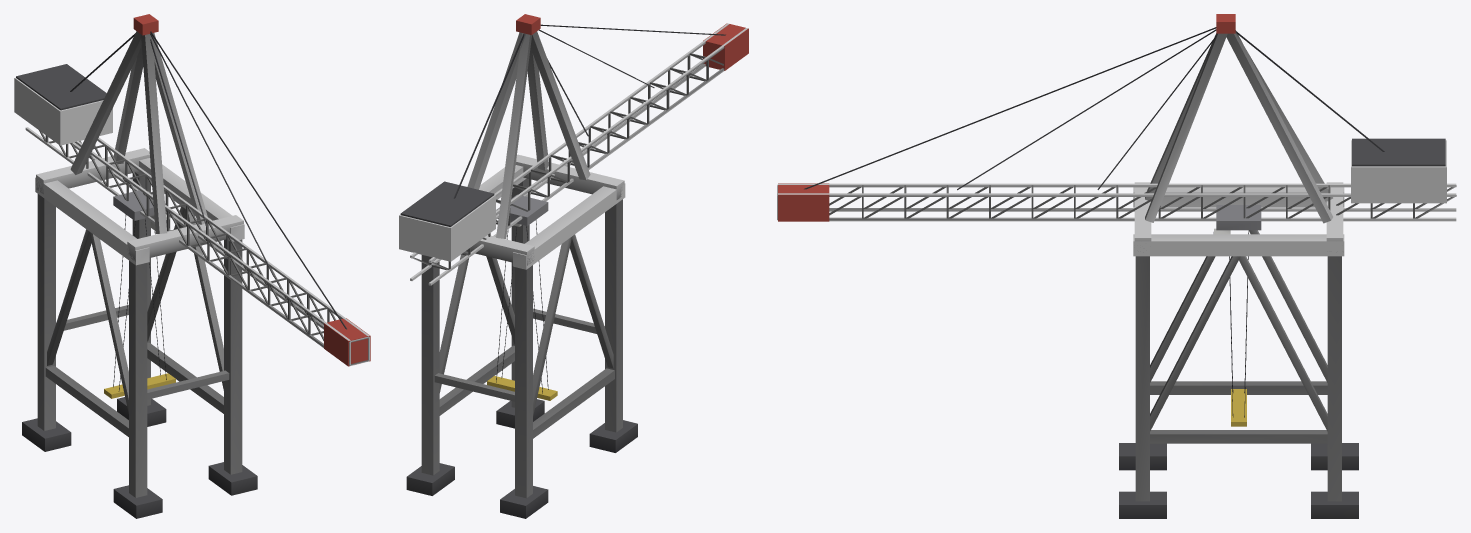
The model's file is sts.glb.
The picture shows the model from 3 angles, left to right: view 1: azimuth 30°, elevation 25°; view 2: azimuth 150°, elevation 25°; view 3: azimuth 270°, elevation 25°; orthographic projection. The views are drawn at different scales.
Parts seen in each view (by area): view 1: farbe, lack, teil; view 2: farbe, lack, teil; view 3: farbe, lack, teil.
Boxes of the visible parts, x1=… form: farbe: x1=14, y1=31, x2=369, y2=497; lack: x1=16, y1=14, x2=370, y2=518; teil: x1=104, y1=189, x2=175, y2=398; farbe: x1=399, y1=23, x2=747, y2=498; lack: x1=400, y1=14, x2=748, y2=518; teil: x1=487, y1=194, x2=557, y2=400; farbe: x1=777, y1=30, x2=1456, y2=501; lack: x1=778, y1=14, x2=1445, y2=518; teil: x1=1213, y1=205, x2=1261, y2=426.
Bounding box in the file's own units: 22.99 × 81 × 106.
